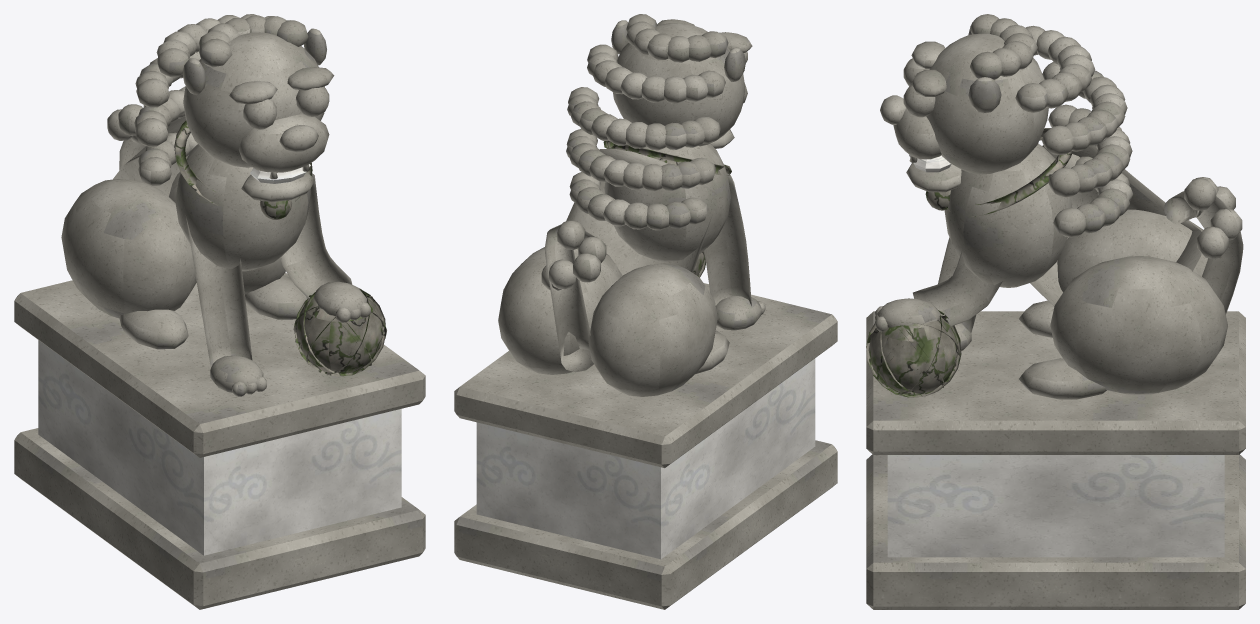
Rendered from guardian_lion.glb.
The picture shows the model from 3 angles, left to right: view 1: azimuth 30°, elevation 25°; view 2: azimuth 150°, elevation 25°; view 3: azimuth 270°, elevation 25°; orthographic projection. The views are drawn at different scales.
Visible parts, largest first — view 1: Lion, LionPedestal, PedestalRelief, LionBall; view 2: Lion, LionPedestal, PedestalRelief, LionBall; view 3: Lion, LionPedestal, PedestalRelief, LionBall.
Boxes of the visible parts, x1,y1,x2,y2 form: Lion: (61,14,370,396); LionPedestal: (14,272,425,609); PedestalRelief: (38,164,401,555); LionBall: (174,120,386,376); Lion: (498,14,765,396); LionPedestal: (454,283,837,609); PedestalRelief: (476,358,815,559); LionBall: (603,141,731,277); Lion: (875,14,1243,399); LionPedestal: (866,311,1245,609); PedestalRelief: (887,155,1224,557); LionBall: (866,128,1072,397).
Size of what is drawn, in the model's own units: 1.15 by 2.42 by 1.6.
3 materials, 3 textured.
